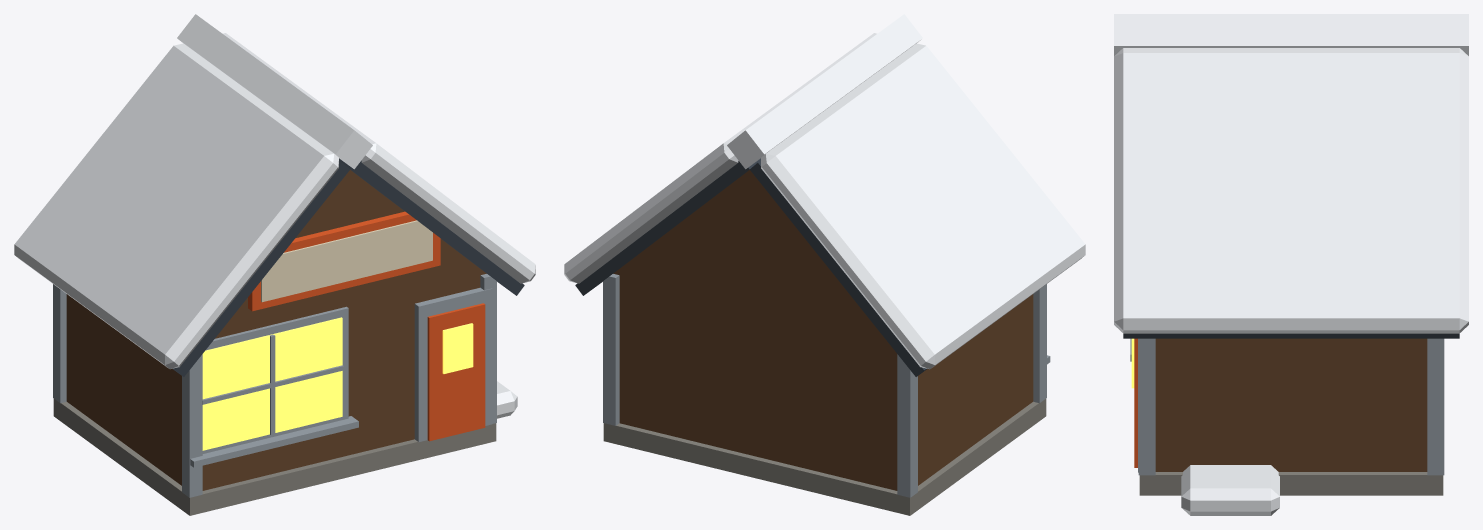
Rendered from ski-school-desk-aframe60s.glb.
3 renders of one model, left to right at view 1: azimuth 30°, elevation 25°; view 2: azimuth 150°, elevation 25°; view 3: azimuth 270°, elevation 25°, orthographic. The views are drawn at different scales.
Parts seen in each view (by area): view 1: ski-school-desk-aframe60s; view 2: ski-school-desk-aframe60s; view 3: ski-school-desk-aframe60s.
Part boxes in pixels (x1=…): ski-school-desk-aframe60s: x1=14, y1=14, x2=535, y2=515; ski-school-desk-aframe60s: x1=564, y1=14, x2=1085, y2=515; ski-school-desk-aframe60s: x1=1114, y1=14, x2=1468, y2=515.
Size of the model in its own units: 6.5 by 5.79 by 4.67.
